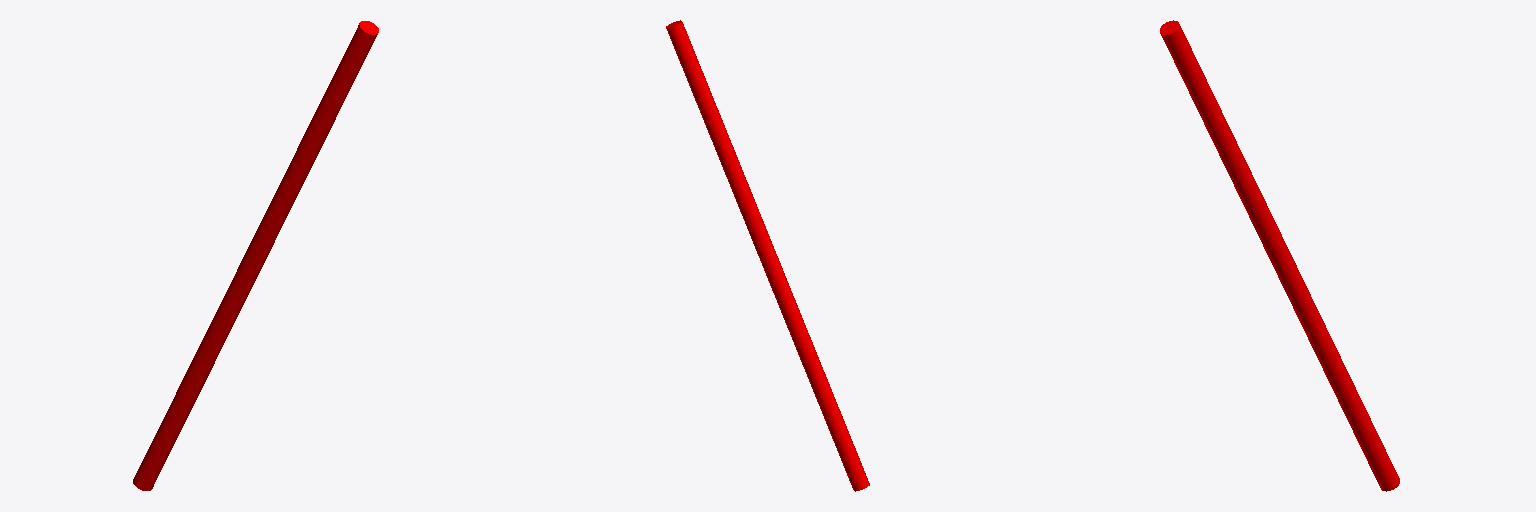
robot.urdf — tree_23.urdf:
<?xml version='1.0' encoding='utf-8'?>
<robot name="tree_23.urdf">
  <link name="branch_0">
    <inertial>
      <origin xyz="0.0 0.0 0.0" rpy="0.0 -0.0 0.0" />
      <mass value="1.0" />
      <inertia ixx="1.0" ixy="0.0" ixz="0.0" iyy="1.0" iyz="0.0" izz="1.0" />
    </inertial>
    <visual name="branch_0_visual">
      <geometry>
        <cylinder radius="0.057918416088893074" length="3.3667963991007057" />
      </geometry>
      <material name="semantic_material" />
      <origin xyz="0.3707608681462214 -0.5951608393573586 1.5304082632409806" rpy="-5.551115123125783e-17 0.42963369298422505 -1.0136659624523123" />
    </visual>
    <collision name="branch_0_collision">
      <geometry>
        <cylinder radius="0.057918416088893074" length="3.3667963991007057" />
      </geometry>
      <origin xyz="0.3707608681462214 -0.5951608393573586 1.5304082632409806" rpy="-5.551115123125783e-17 0.42963369298422505 -1.0136659624523123" />
    </collision>
  </link>
  <material name="semantic_material">
    <color rgba="1. 0. 0. 1." />
  </material>
</robot>

--- Render facts (derived) ---
Views: 3 orthographic renders of the robot side by side, from view 1: azimuth 30°, elevation 25°; view 2: azimuth 210°, elevation 25°; view 3: azimuth 270°, elevation 25°.
Model tree_23.urdf with 1 links and 0 joints (none), rooted at branch_0, posed all joints at 0.
Visible links, largest first — view 1: branch_0; view 2: branch_0; view 3: branch_0.
Link boxes in pixels (x1,y1,x2,y2): branch_0: [133, 21, 378, 490]; branch_0: [666, 20, 869, 491]; branch_0: [1160, 20, 1399, 491].
Size in the robot's own frame: 0.8542 by 1.3 by 3.11 metres.
Geometry: primitives only (box / cylinder / sphere), no mesh files.